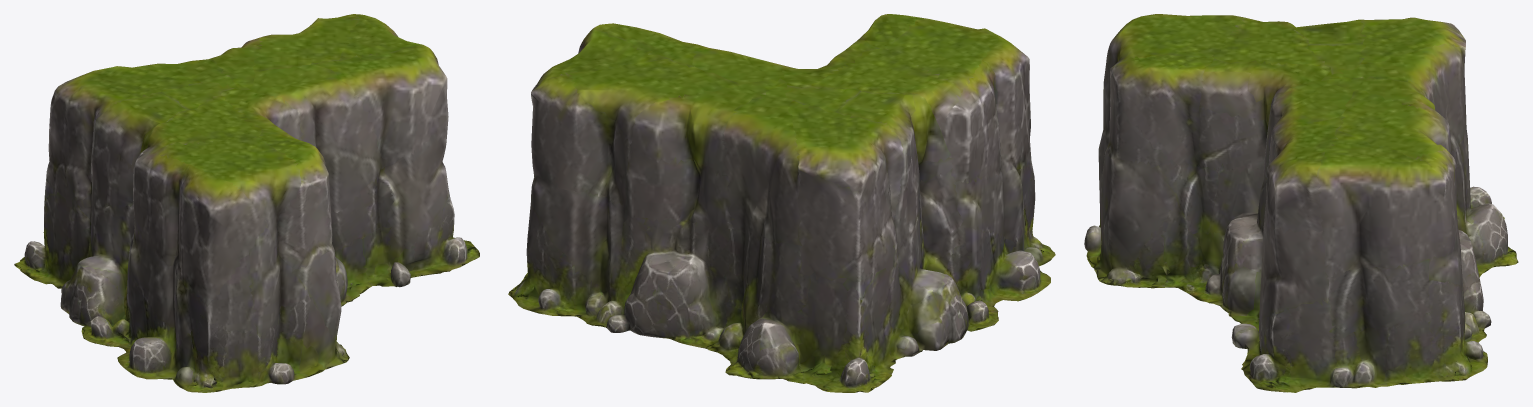
File: plateau_b.glb
The picture shows the model from 3 angles, left to right: view 1: azimuth 30°, elevation 25°; view 2: azimuth 150°, elevation 25°; view 3: azimuth 270°, elevation 25°; orthographic projection. The views are drawn at different scales.
Size of the model in its own units: 1.88 by 0.9191 by 1.71.
Materials: 1 (1 with a texture image).
